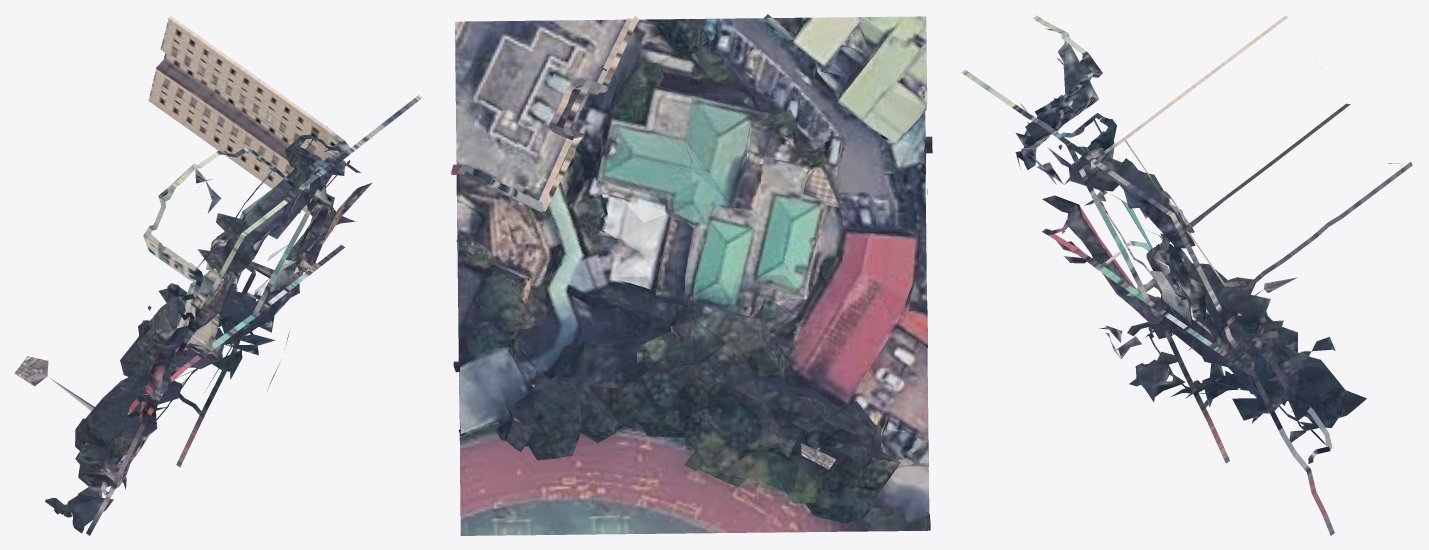
3 views of the same model, side by side, from view 1: azimuth 30°, elevation 25°; view 2: azimuth 150°, elevation 25°; view 3: azimuth 270°, elevation 25° (orthographic). The views are drawn at different scales.
Size of the model in its own units: 80.82 by 87.79 by 78.52.
Materials: 1 (1 with a texture image).
